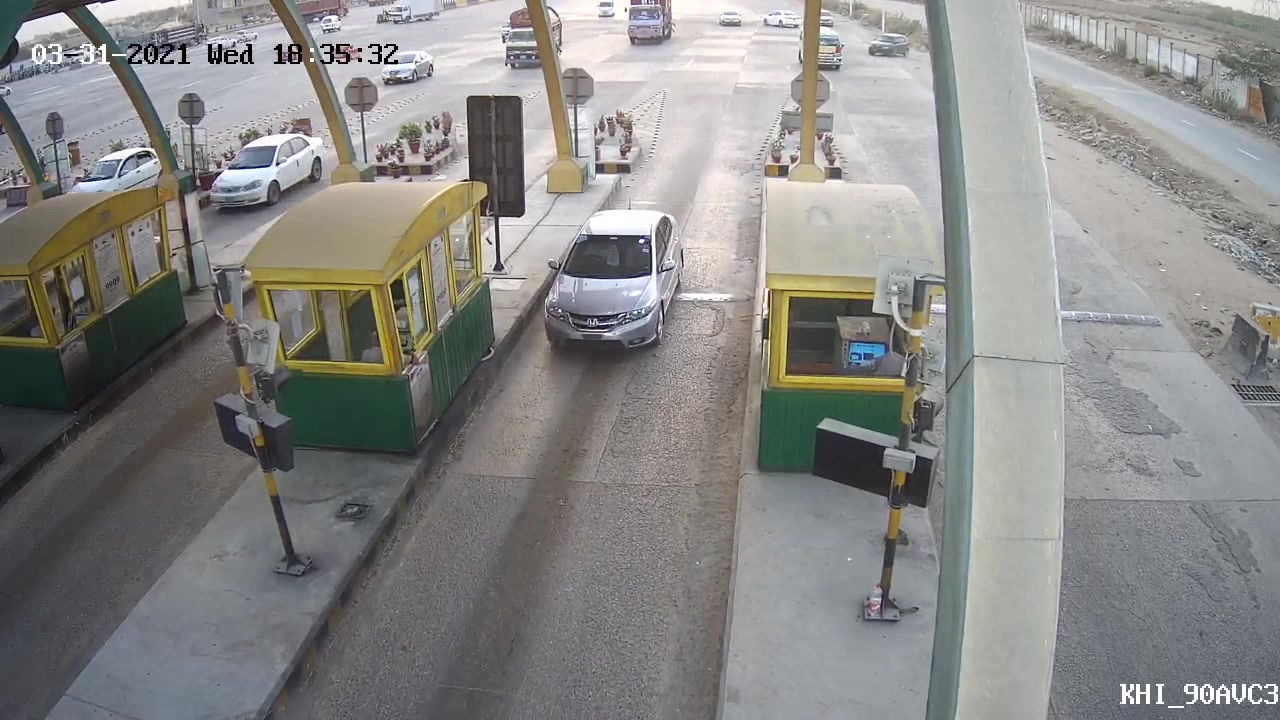F1: (533, 204, 691, 358)
